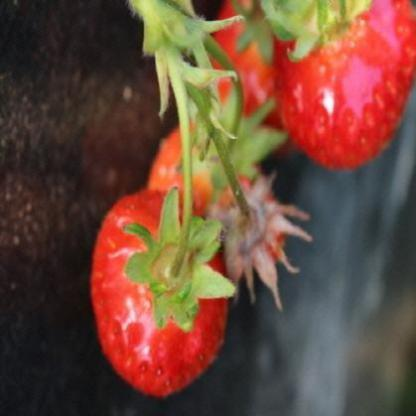Strawberry_Gray_Mold: (202, 172, 314, 312)
